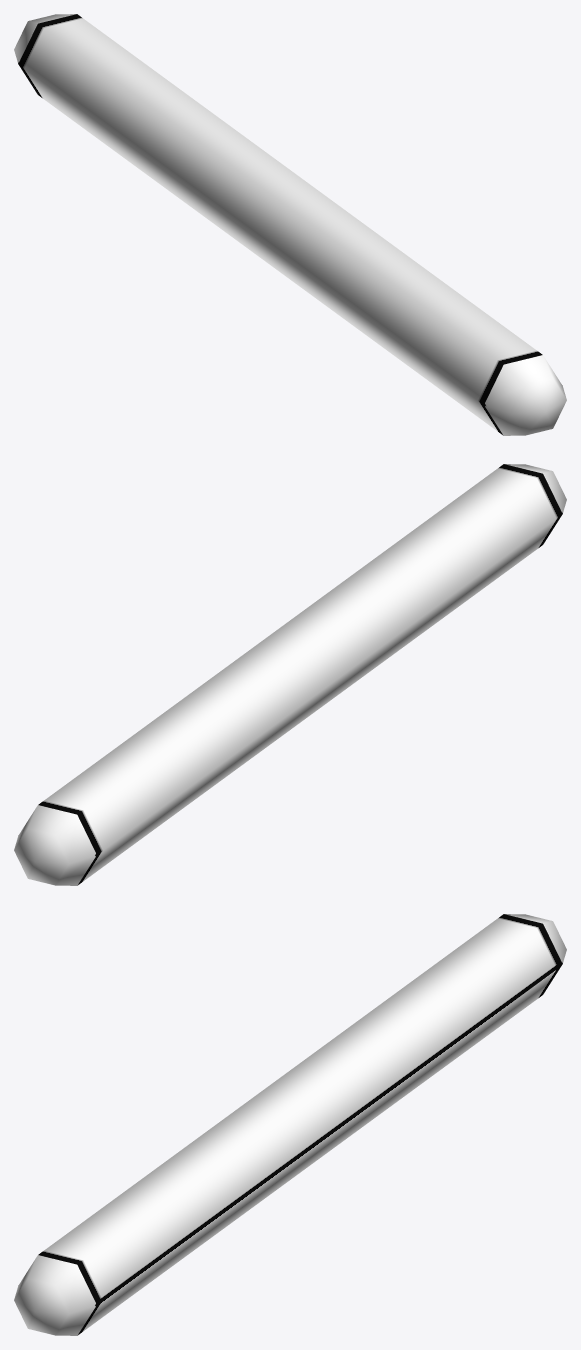
Rendered from projectile.obj.
The picture shows the model from 3 angles, top to bottom: view 1: azimuth 30°, elevation 25°; view 2: azimuth 150°, elevation 25°; view 3: azimuth 330°, elevation 25°; orthographic projection.
Parts seen in each view (by area): view 1: OilTank001; view 2: OilTank001; view 3: OilTank001.
Boxes of the visible parts, x1=… form: OilTank001: x1=14, y1=14, x2=566, y2=435; OilTank001: x1=14, y1=464, x2=566, y2=885; OilTank001: x1=14, y1=914, x2=566, y2=1335.
Size of the model in its own units: 0.0924 by 0.08 by 1.04.
